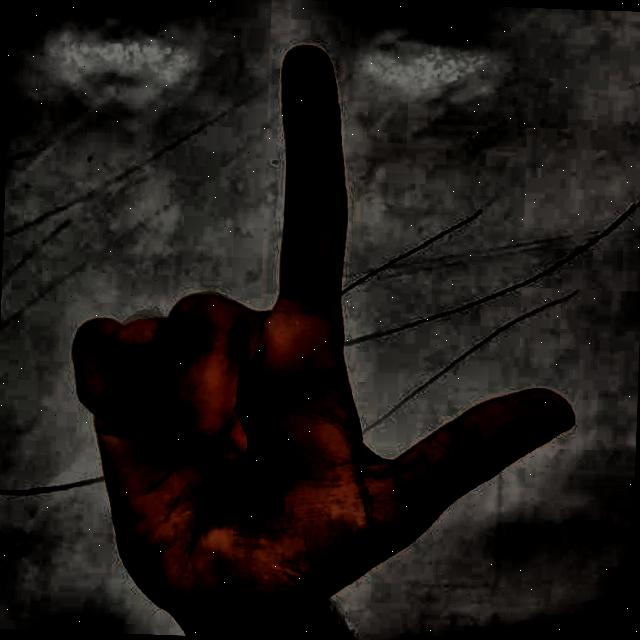La: (20, 4, 598, 640)
